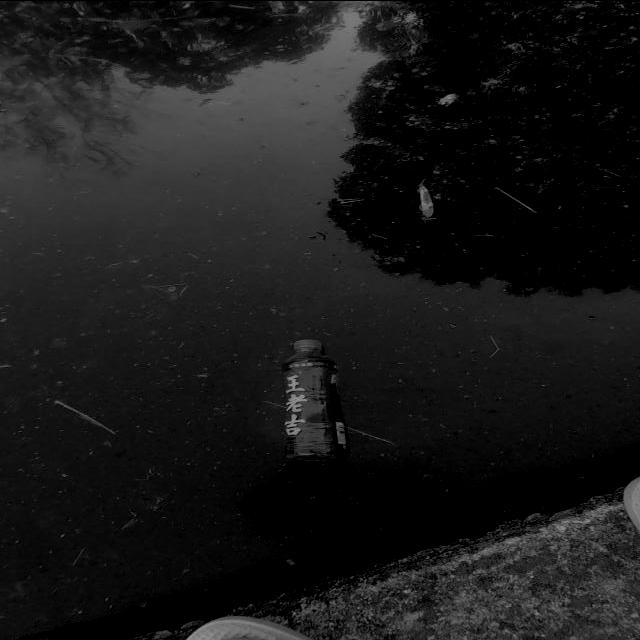bottle: (271, 323, 356, 471)
